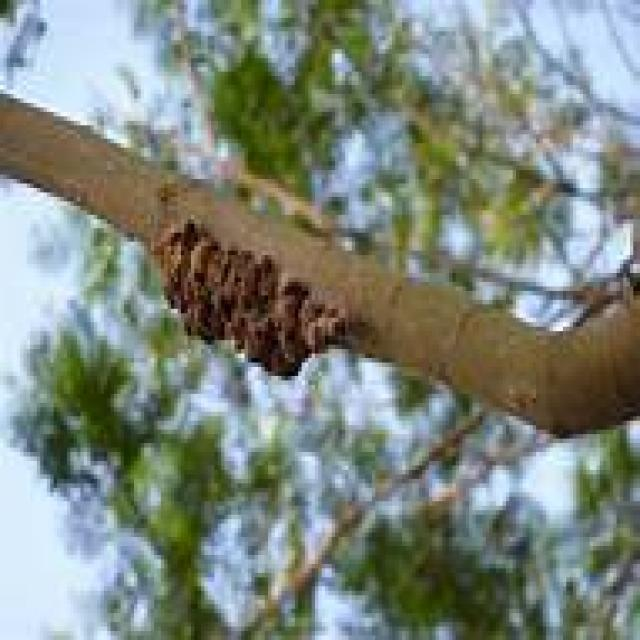Tuberculosis: (161, 220, 345, 382)
